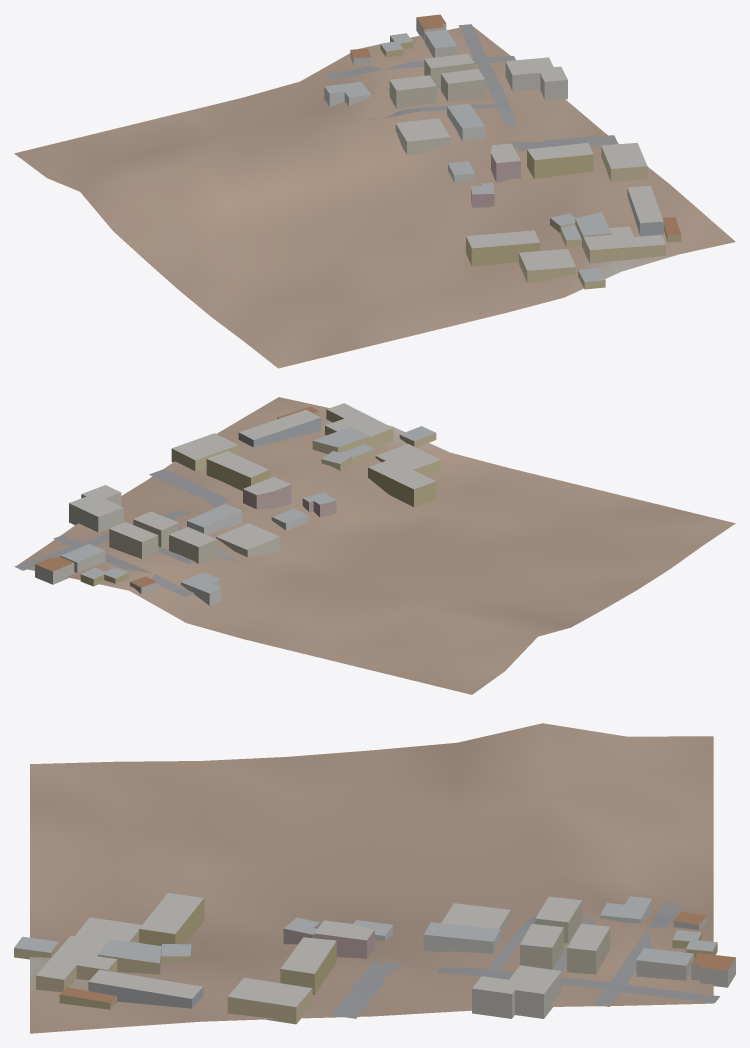
The picture shows the model from 3 angles, top to bottom: view 1: azimuth 30°, elevation 25°; view 2: azimuth 150°, elevation 25°; view 3: azimuth 270°, elevation 25°; orthographic projection. The views are drawn at different scales.
Visible parts, largest first — view 1: Lo; view 2: Lo; view 3: Lo.
Part boxes in pixels (left/top/right/bottom): Lo: left=14, top=14, right=735, bottom=368; Lo: left=14, top=397, right=735, bottom=694; Lo: left=14, top=723, right=735, bottom=1033.
Bounding box in the file's own units: 263 × 29.39 × 270.
